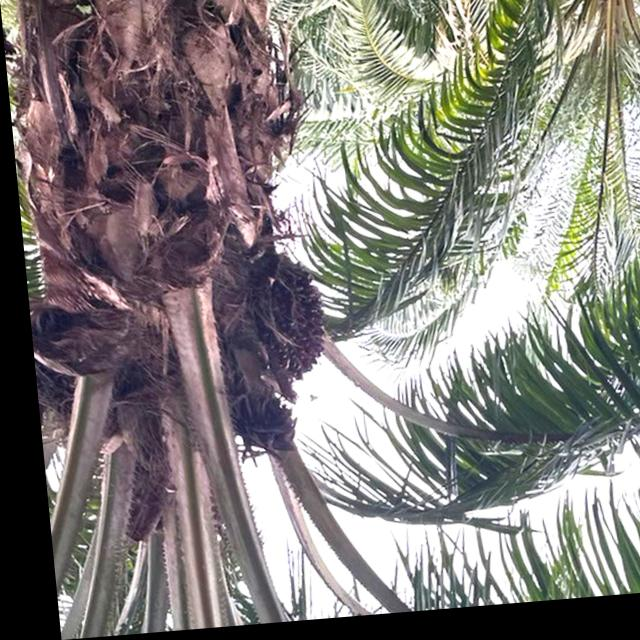ripe: (247, 259, 332, 401)
